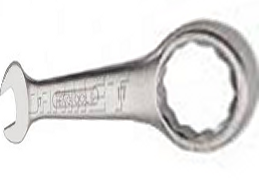wrench: (1, 20, 259, 158)
